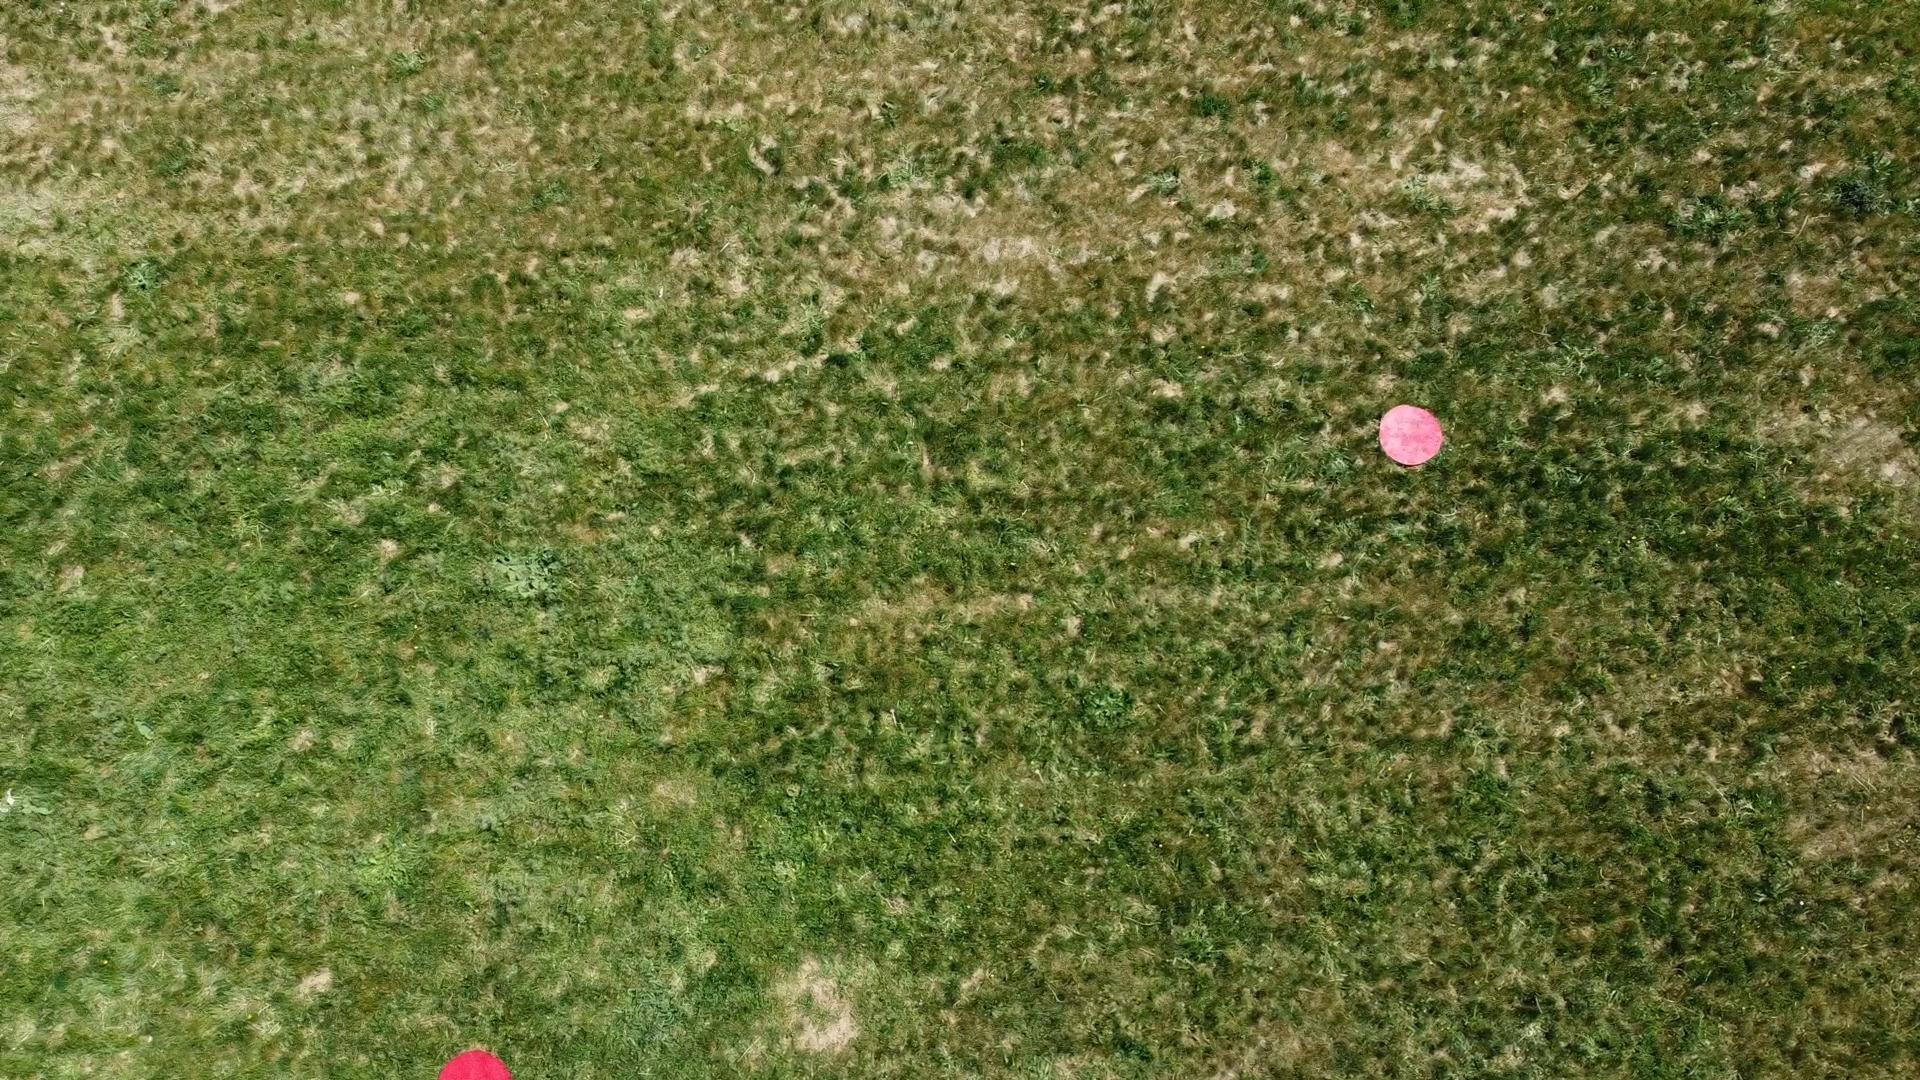Red: (1377, 402, 1447, 468)
